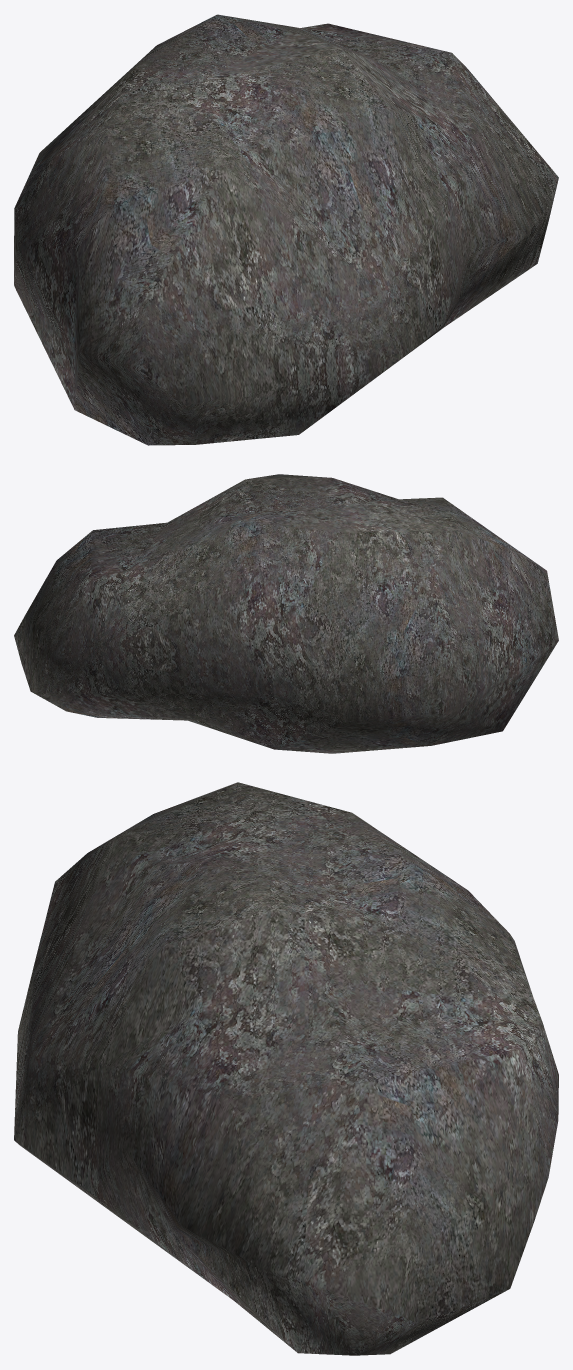
Rendered from rock_volcanorockc_l1.fbx.
The picture shows the model from 3 angles, top to bottom: view 1: azimuth 30°, elevation 25°; view 2: azimuth 150°, elevation 25°; view 3: azimuth 270°, elevation 25°; orthographic projection. The views are drawn at different scales.
Parts seen in each view (by area): view 1: mesh_node; view 2: mesh_node; view 3: mesh_node.
Boxes of the visible parts, x1=… form: mesh_node: x1=14, y1=14, x2=558, y2=445; mesh_node: x1=14, y1=474, x2=558, y2=753; mesh_node: x1=14, y1=782, x2=558, y2=1355.
Size of the model in its own units: 14.42 by 7.14 by 10.07.
1 material, 1 textured.
